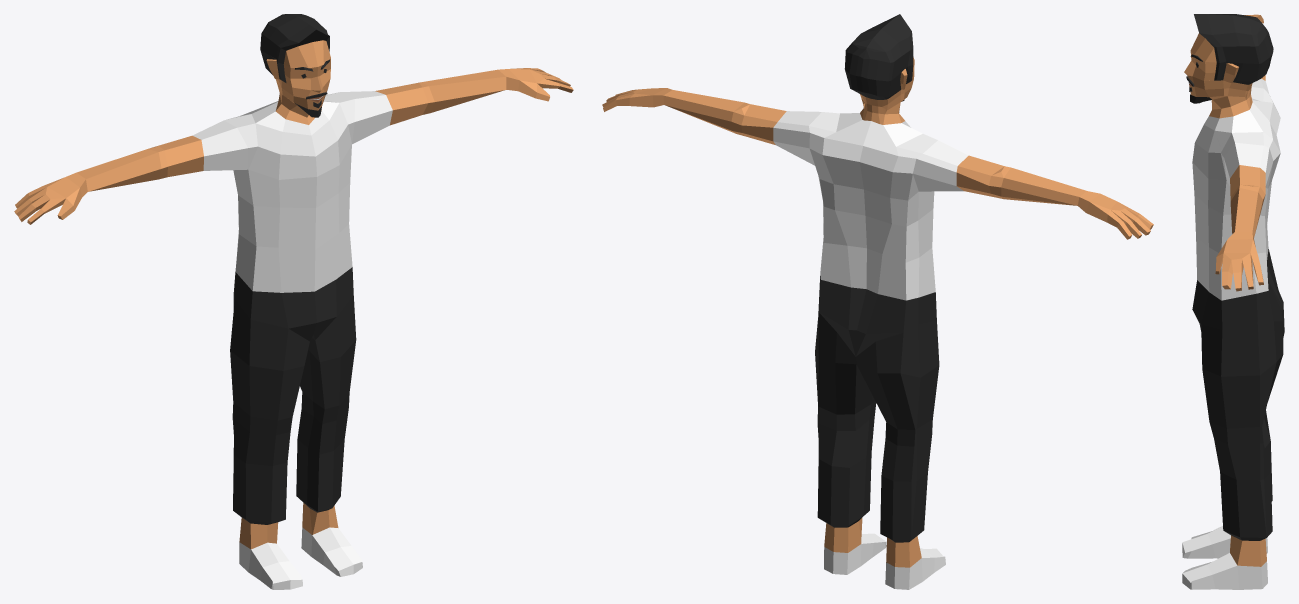
Rendered from karakter.fbx.
3 views of the same model, side by side, from view 1: azimuth 30°, elevation 25°; view 2: azimuth 150°, elevation 25°; view 3: azimuth 270°, elevation 25° (orthographic). The views are drawn at different scales.
Parts seen in each view (by area): view 1: Plane; view 2: Plane; view 3: Plane.
Boxes of the visible parts, <box> form: Plane: <box>14,14,573,589</box>; Plane: <box>602,14,1153,589</box>; Plane: <box>1182,14,1284,589</box>.
Size of the model in its own units: 1002 by 954 by 160.
